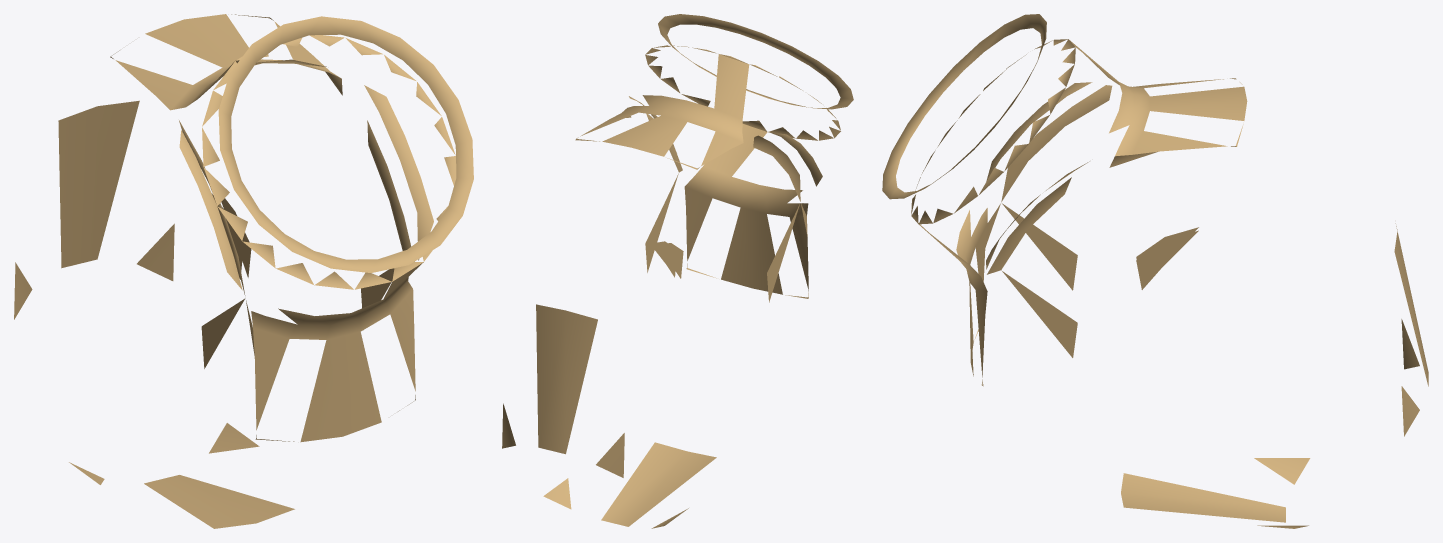
The model's file is F266820012936_003_spindel_Rep.dae.
The picture shows the model from 3 angles, left to right: view 1: azimuth 30°, elevation 25°; view 2: azimuth 150°, elevation 25°; view 3: azimuth 270°, elevation 25°; orthographic projection. The views are drawn at different scales.
Visible parts, largest first — view 1: F266820012936_003_spindel; view 2: F266820012936_003_spindel; view 3: F266820012936_003_spindel.
Part boxes in pixels (x1,y1,x2,y2): F266820012936_003_spindel: (14, 14, 473, 528); F266820012936_003_spindel: (502, 14, 853, 528); F266820012936_003_spindel: (882, 14, 1428, 528).
Size of the model in its own units: 29.75 by 68.32 by 67.1.
